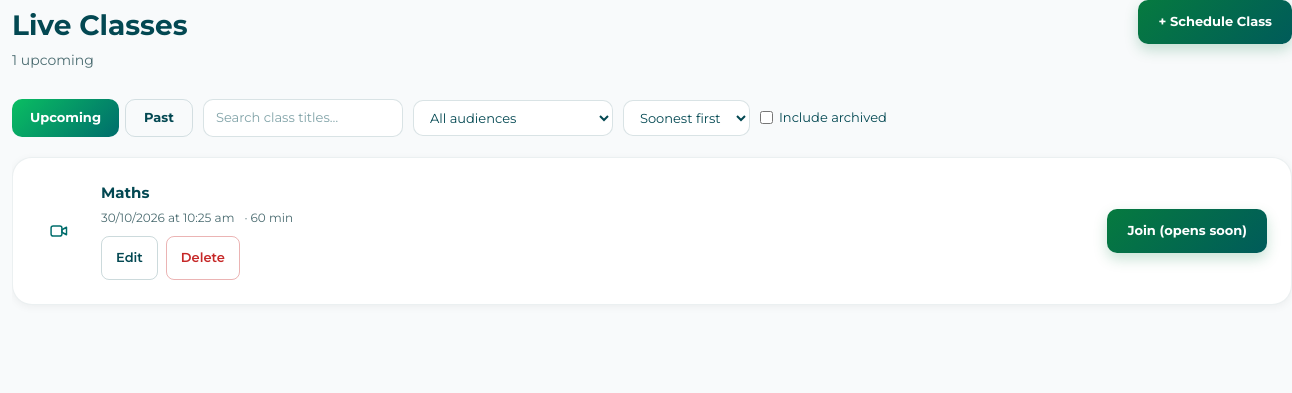
Test case: joining must not mark a student present into a blocked window › hands over the link when the browser blocked the window anyway
Click the button "Join (opens soon)".
click(1187, 231)  # box [1107,209,1267,253]
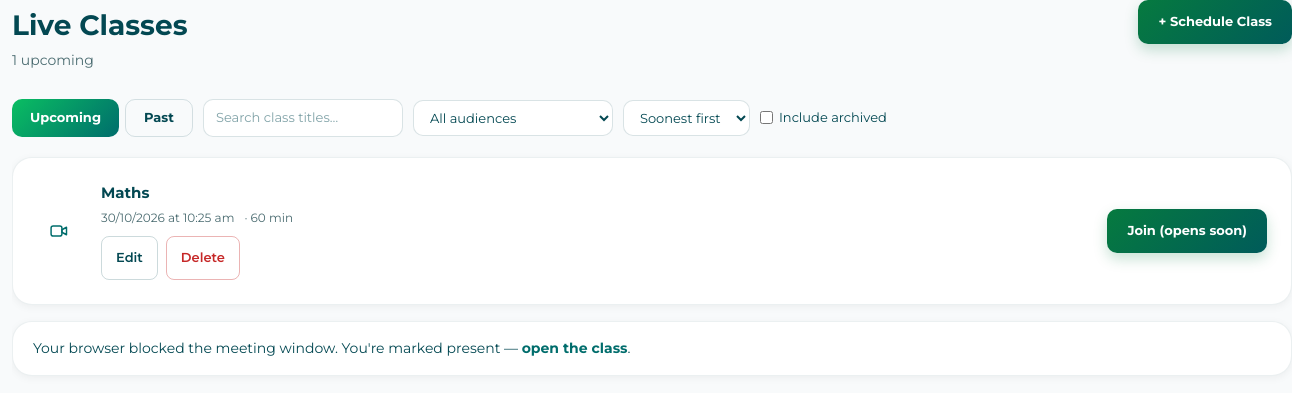
Now the message shows "marked present", box [33,339,518,357]
